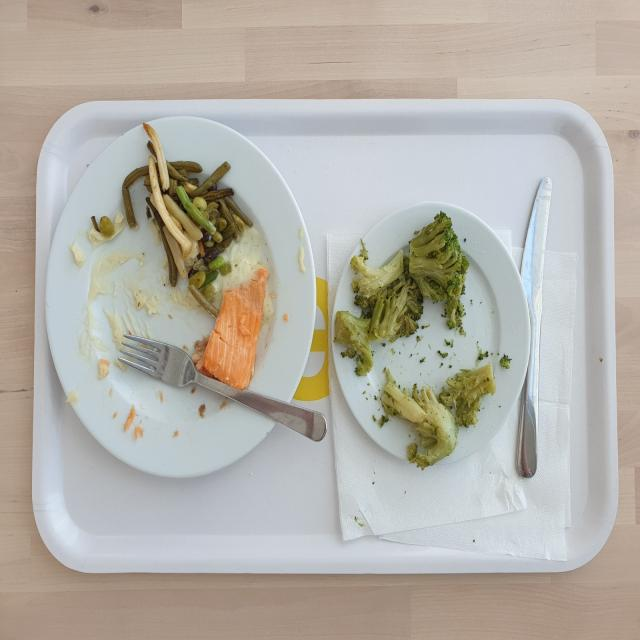Fish: (201, 268, 268, 389)
Green veg: (335, 212, 469, 376), (123, 124, 252, 291), (380, 364, 495, 467)
